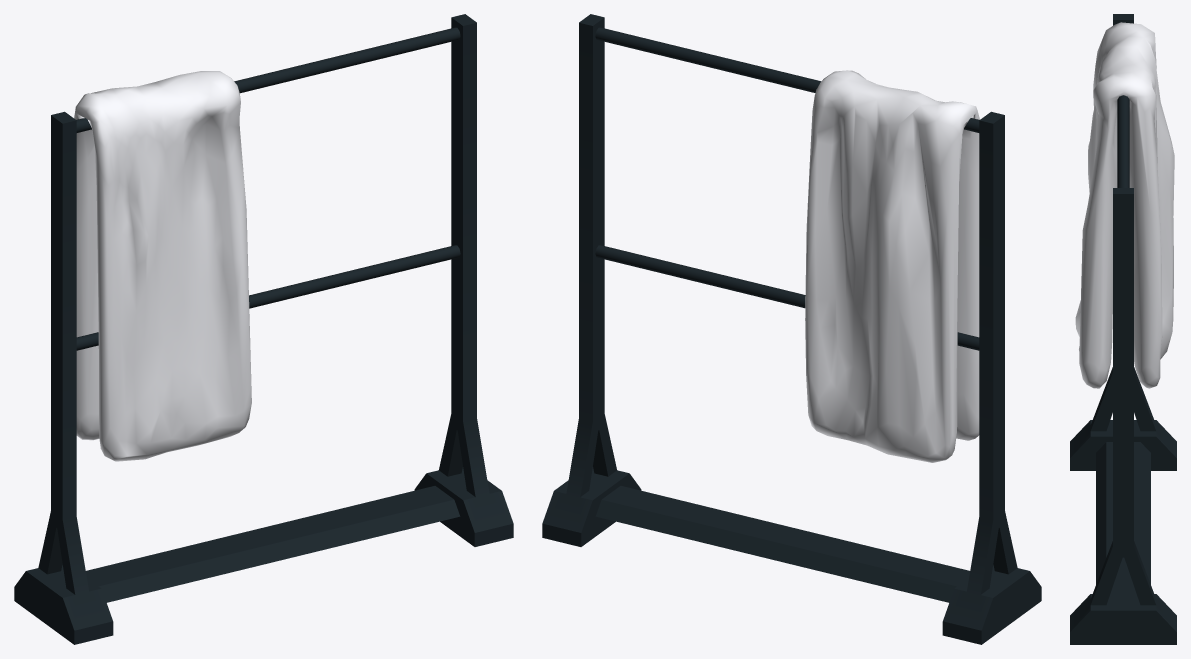
The model's file is 28_giatreokhan.fbx.
3 renders of one model, left to right at view 1: azimuth 30°, elevation 25°; view 2: azimuth 150°, elevation 25°; view 3: azimuth 270°, elevation 25°, orthographic. The views are drawn at different scales.
Visible parts, largest first — view 1: 28_giatreokhan_a, 28_giatreokhan; view 2: 28_giatreokhan_a, 28_giatreokhan; view 3: 28_giatreokhan, 28_giatreokhan_a.
Part boxes in pixels (bbox=[...]): 28_giatreokhan_a: bbox=[74, 71, 251, 461]; 28_giatreokhan: bbox=[14, 14, 513, 644]; 28_giatreokhan_a: bbox=[805, 70, 979, 462]; 28_giatreokhan: bbox=[542, 14, 1041, 644]; 28_giatreokhan: bbox=[1070, 14, 1176, 644]; 28_giatreokhan_a: bbox=[1075, 22, 1174, 388].
Bounding box in the file's own units: 221 × 245 × 52.22.
1 material, 1 textured.
